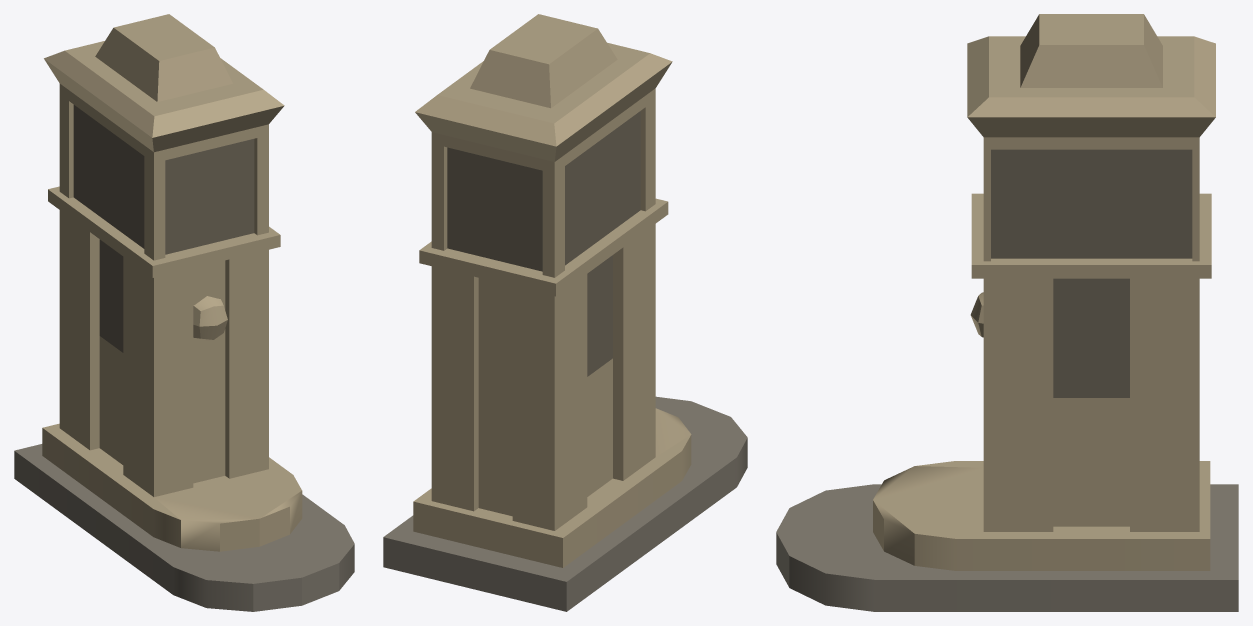
The model's file is Fountain.fbx.
3 renders of one model, left to right at view 1: azimuth 30°, elevation 25°; view 2: azimuth 150°, elevation 25°; view 3: azimuth 270°, elevation 25°, orthographic. The views are drawn at different scales.
Visible parts, largest first — view 1: fountain_main, fountain_ornament; view 2: fountain_main; view 3: fountain_main.
Part boxes in pixels (left/top/right/bottom): fountain_main: left=14, top=14, right=354, bottom=611; fountain_ornament: left=193, top=296, right=227, bottom=340; fountain_main: left=383, top=14, right=747, bottom=611; fountain_main: left=776, top=14, right=1238, bottom=611.
Size of the model in its own units: 224 by 583 by 457.
